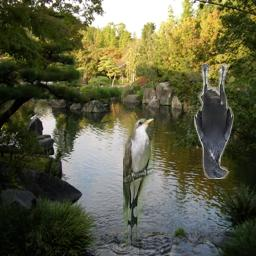Crow: (194, 63, 234, 179)
Cuckoo: (123, 118, 154, 248)
